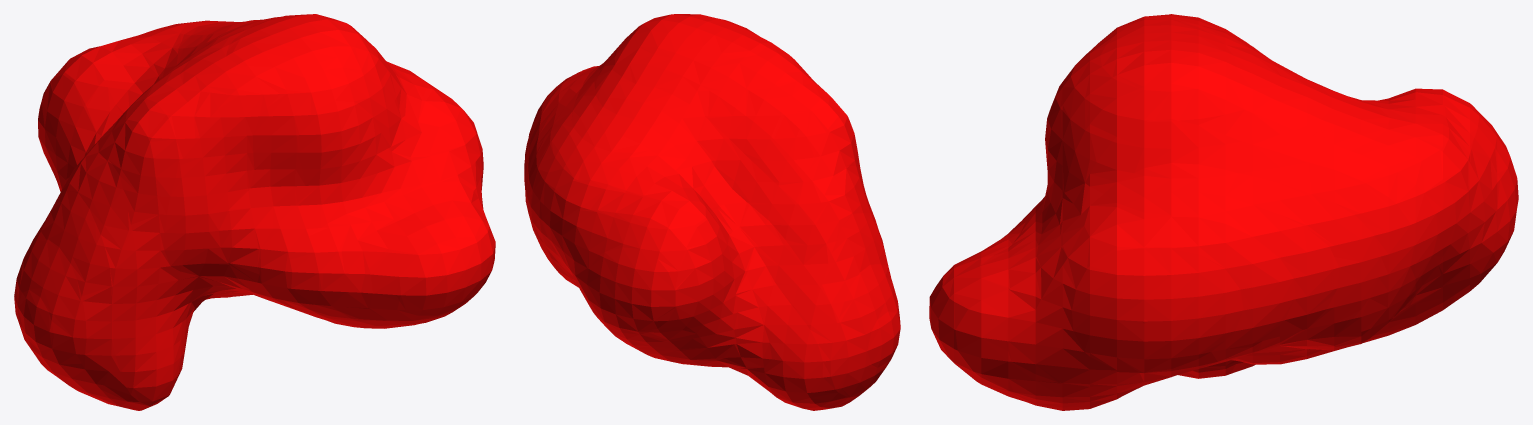
Rendered from glgS_coarse.dae.
3 renders of one model, left to right at view 1: azimuth 30°, elevation 25°; view 2: azimuth 150°, elevation 25°; view 3: azimuth 270°, elevation 25°, orthographic. The views are drawn at different scales.
Parts seen in each view (by area): view 1: glgS; view 2: glgS; view 3: glgS.
Boxes of the visible parts, <box> form: glgS: <box>14,14,495,410</box>; glgS: <box>524,14,900,410</box>; glgS: <box>929,14,1518,410</box>.
Size of the model in its own units: 36.91 by 30.68 by 39.04.
